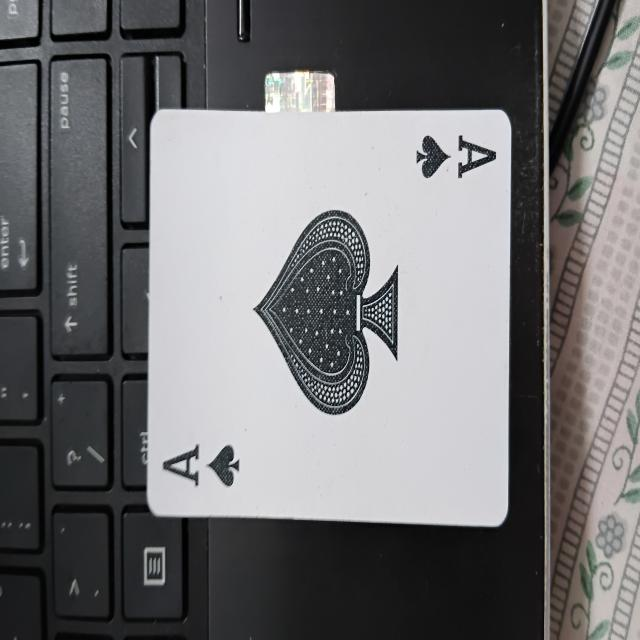AS: (145, 110, 515, 534)
